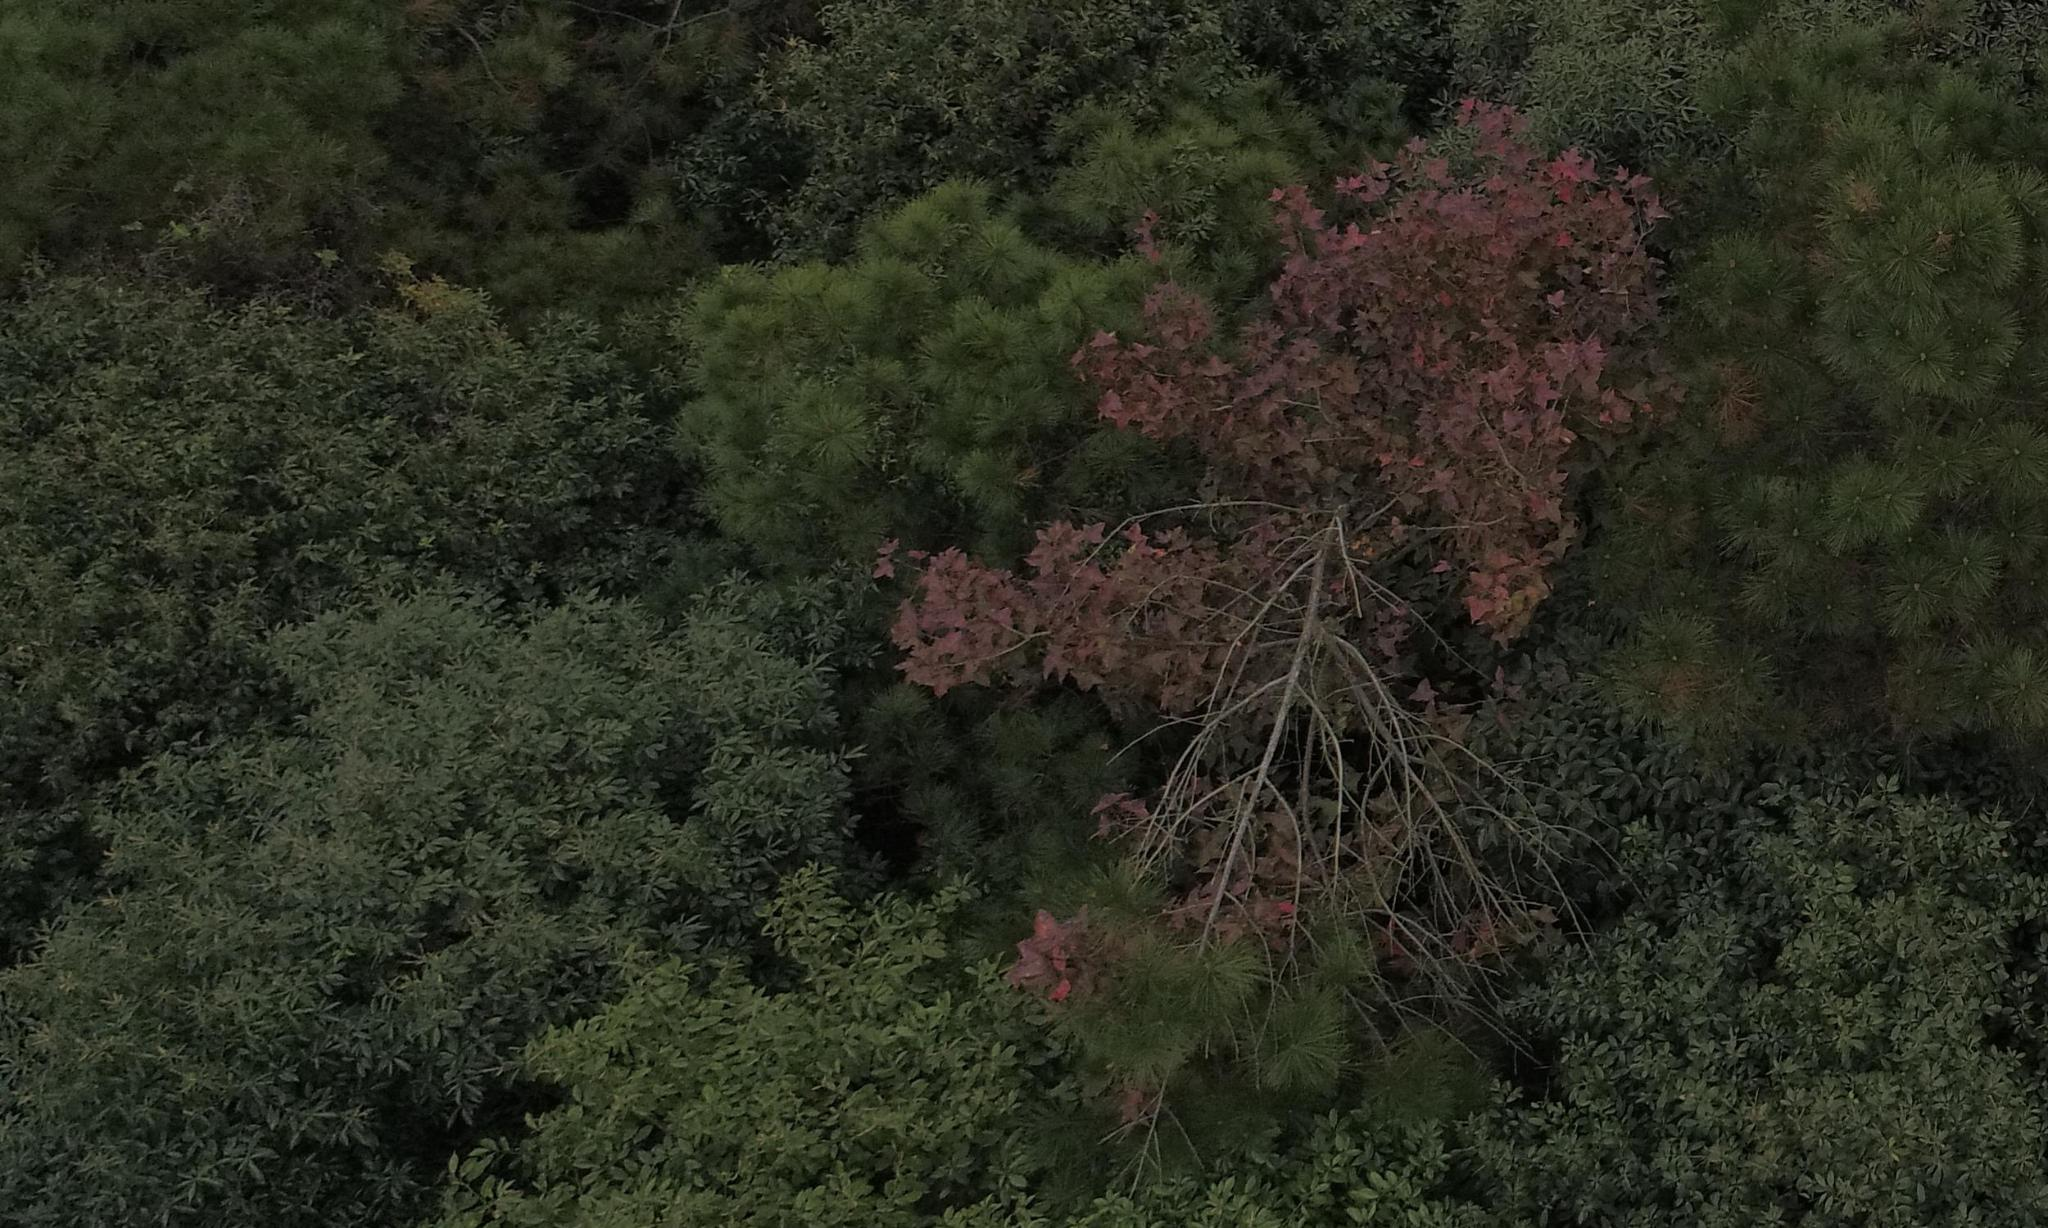dead: (1142, 497, 1595, 1001)
